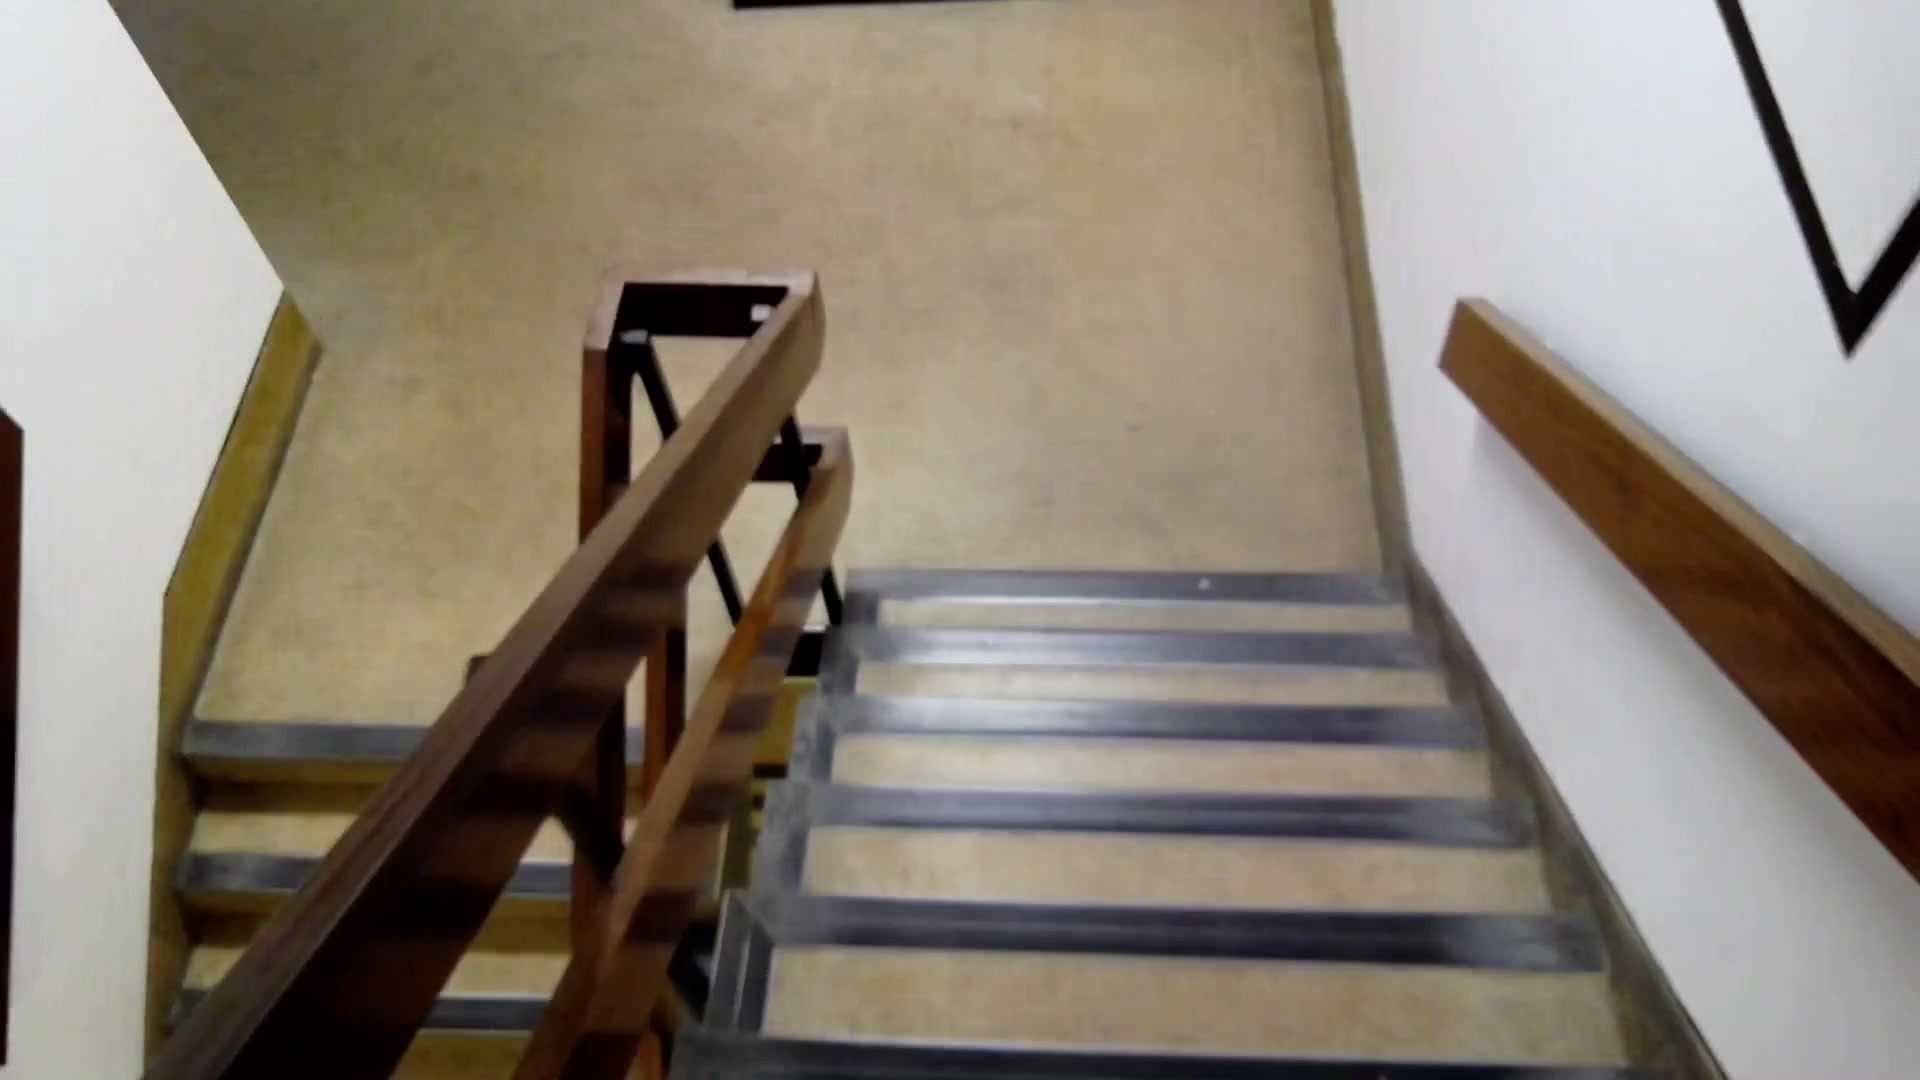Stairs: (760, 510, 1725, 1080)
